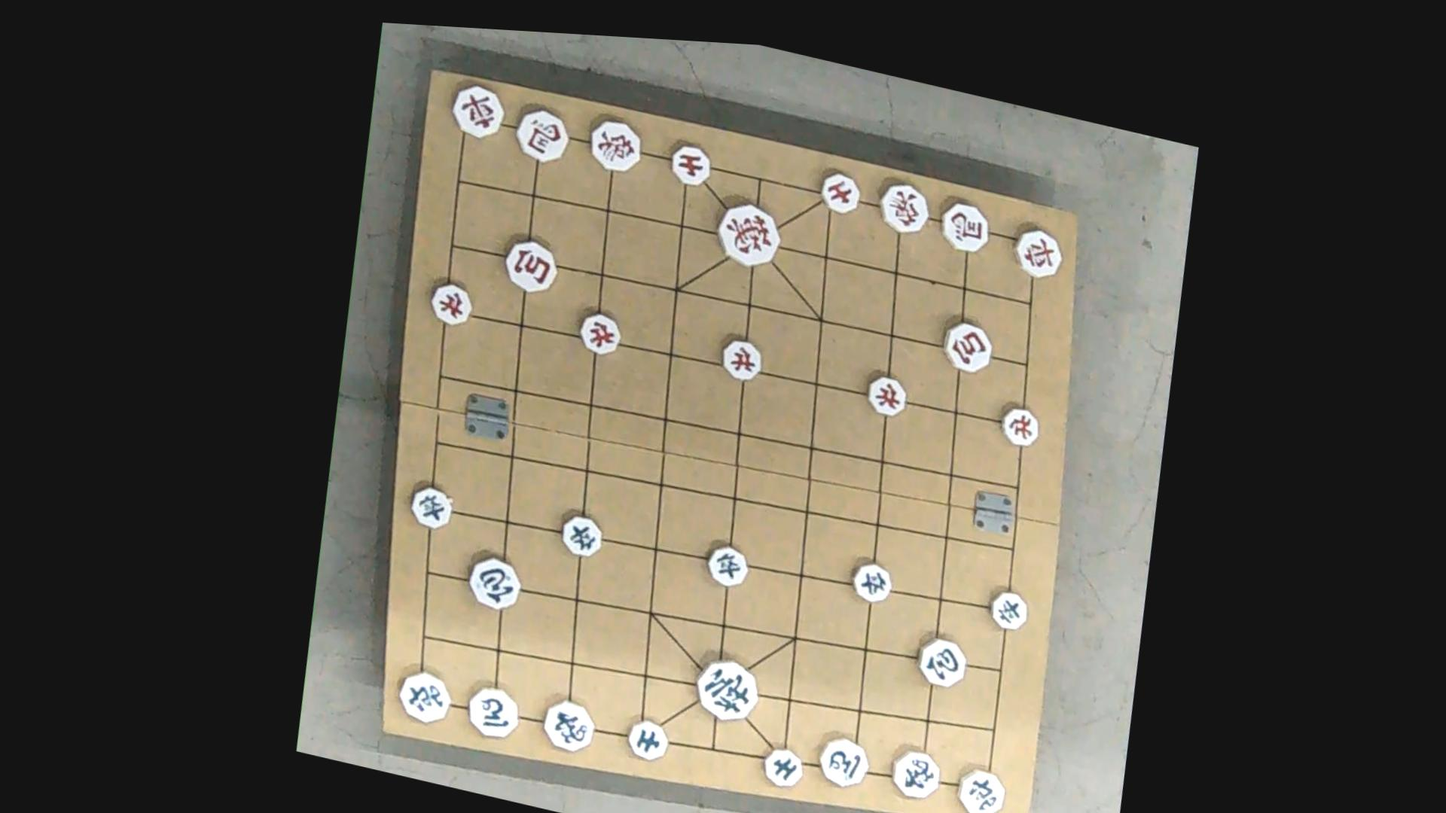cha_green: (395, 663, 454, 726), (952, 765, 1007, 813)
cha_red: (447, 78, 506, 144), (1011, 223, 1064, 284)
jol_green: (703, 537, 749, 591), (558, 511, 604, 564), (406, 481, 453, 532), (847, 558, 891, 609), (987, 588, 1030, 637)
jol_red: (427, 275, 474, 327), (718, 335, 763, 385), (862, 370, 907, 420), (577, 307, 621, 358), (998, 401, 1040, 451)
ma_green: (463, 679, 521, 741), (816, 734, 872, 793)
ma_red: (509, 102, 574, 167), (938, 196, 993, 257)
po_green: (465, 553, 523, 617), (914, 632, 968, 691)
po_red: (499, 234, 559, 299), (944, 318, 996, 379)
sa_green: (625, 717, 670, 767), (761, 743, 805, 791)
sa_red: (665, 139, 717, 189), (818, 166, 865, 220)
sang_green: (538, 696, 596, 759), (888, 743, 942, 803)
sang_red: (873, 176, 935, 241), (583, 113, 642, 177)
wang_green: (691, 654, 758, 726)
wang_red: (715, 195, 784, 273)
